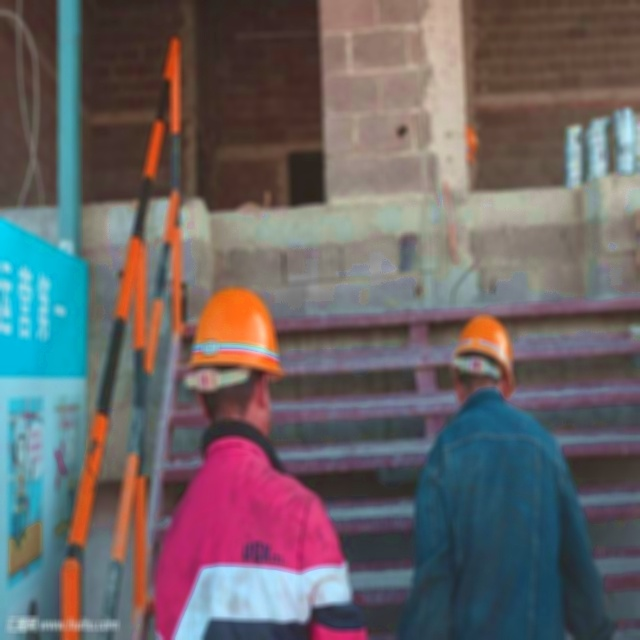Con_Casco: (191, 287, 285, 434), (451, 314, 516, 398)
Sin_Chaleco: (433, 406, 568, 640)
